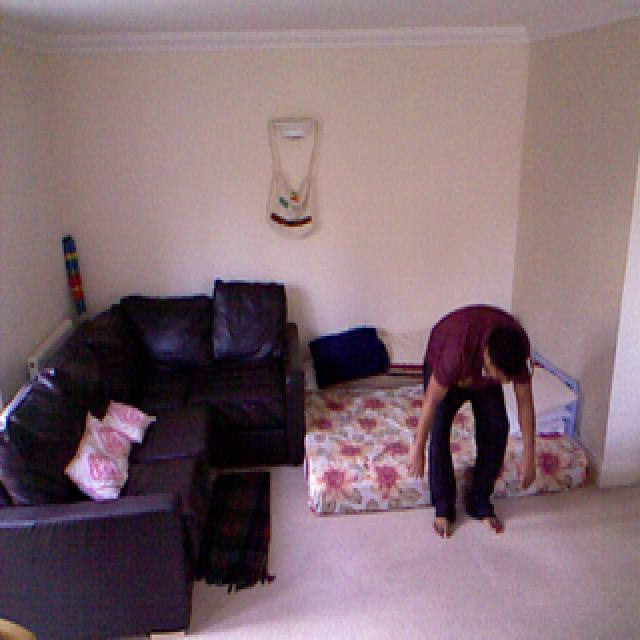NotFall: (377, 280, 563, 550)
